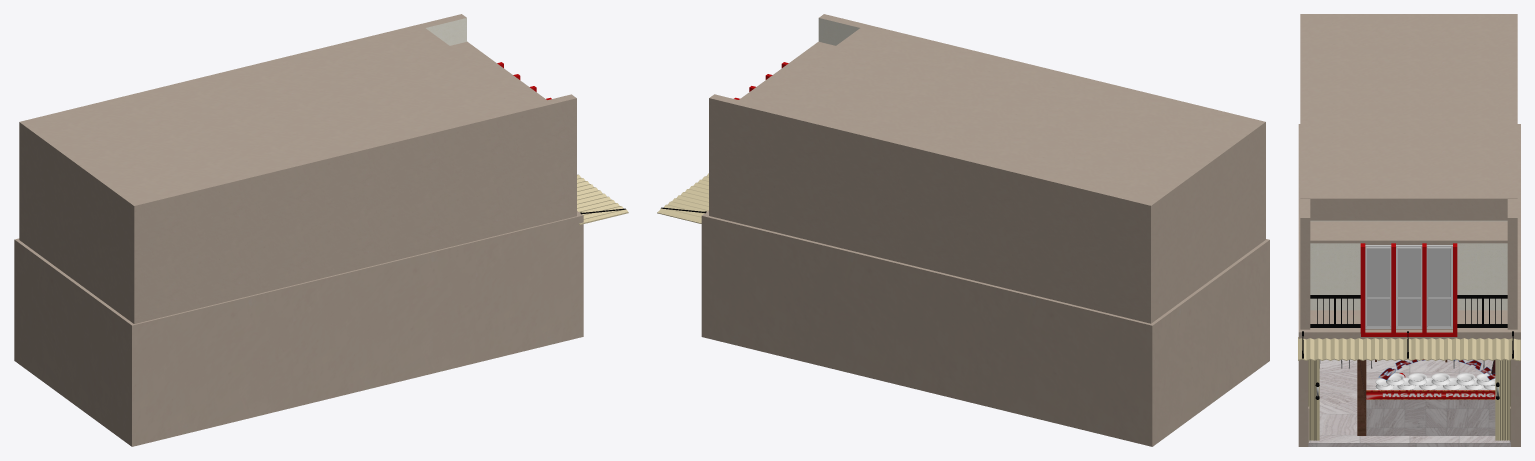
The model's file is nasi_padang.glb.
3 views of the same model, side by side, from view 1: azimuth 30°, elevation 25°; view 2: azimuth 150°, elevation 25°; view 3: azimuth 270°, elevation 25° (orthographic). The views are drawn at different scales.
Parts seen in each view (by area): view 1: Cube.253, Cube, Cube.293; view 2: Cube.253, Cube, Cube.293; view 3: Cube.253, Cube, Cube.001, Cube.251, Cube.293, Cube.252, Cube.297, Cube.250, Cube.295.
Part boxes in pixels (box(x1,y1,x2,y2)): Cube.253: box(19, 14, 576, 323); Cube: box(14, 211, 583, 446); Cube.293: box(577, 174, 628, 224); Cube.253: box(709, 14, 1265, 323); Cube: box(701, 210, 1269, 446); Cube.293: box(657, 173, 708, 223); Cube.253: box(1300, 14, 1517, 329); Cube: box(1298, 124, 1520, 446); Cube.001: box(1357, 359, 1495, 435); Cube.251: box(1365, 245, 1452, 328); Cube.293: box(1298, 337, 1520, 360); Cube.252: box(1360, 243, 1457, 336); Cube.297: box(1495, 359, 1510, 440); Cube.250: box(1310, 295, 1507, 327); Cube.295: box(1308, 359, 1319, 440).
Bounding box in the file's own units: 71.19 × 32.83 × 29.29.
Materials: 25 (12 with a texture image).
